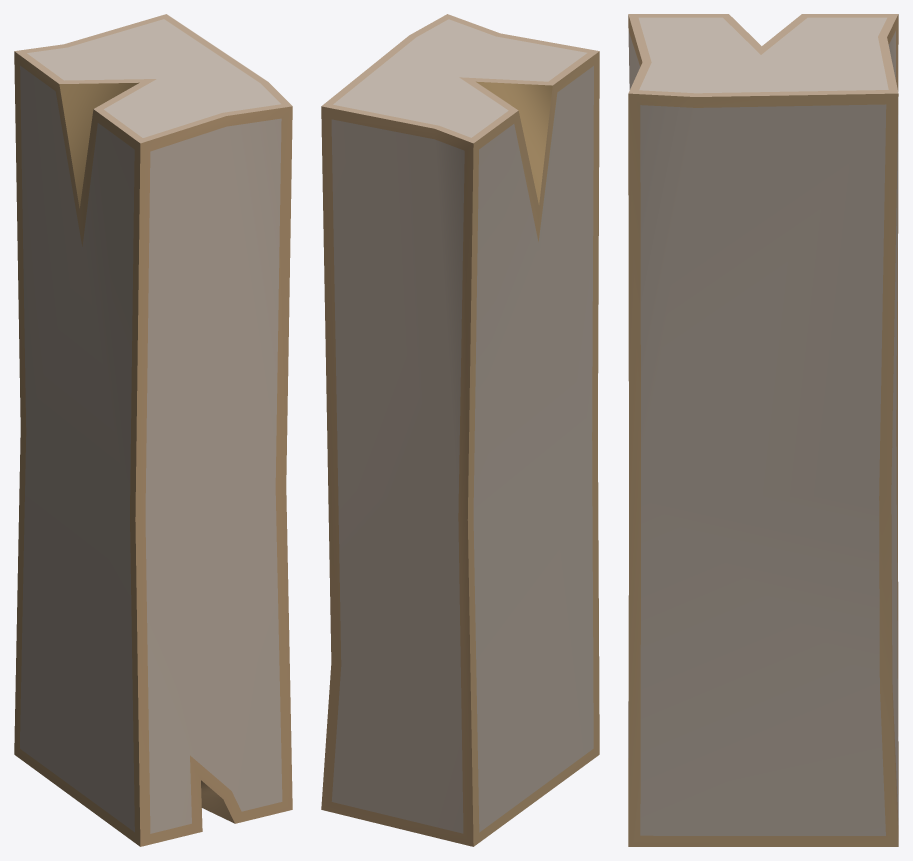
File: LargeBeam.glb
The picture shows the model from 3 angles, left to right: view 1: azimuth 30°, elevation 25°; view 2: azimuth 150°, elevation 25°; view 3: azimuth 270°, elevation 25°; orthographic projection. The views are drawn at different scales.
Parts seen in each view (by area): view 1: LargeBeam; view 2: LargeBeam; view 3: LargeBeam.
Part boxes in pixels (x1=…): LargeBeam: x1=14, y1=14, x2=292, y2=846; LargeBeam: x1=321, y1=14, x2=599, y2=846; LargeBeam: x1=628, y1=14, x2=898, y2=846.
Size of the model in its own units: 1.3 by 5.43 by 1.77.
